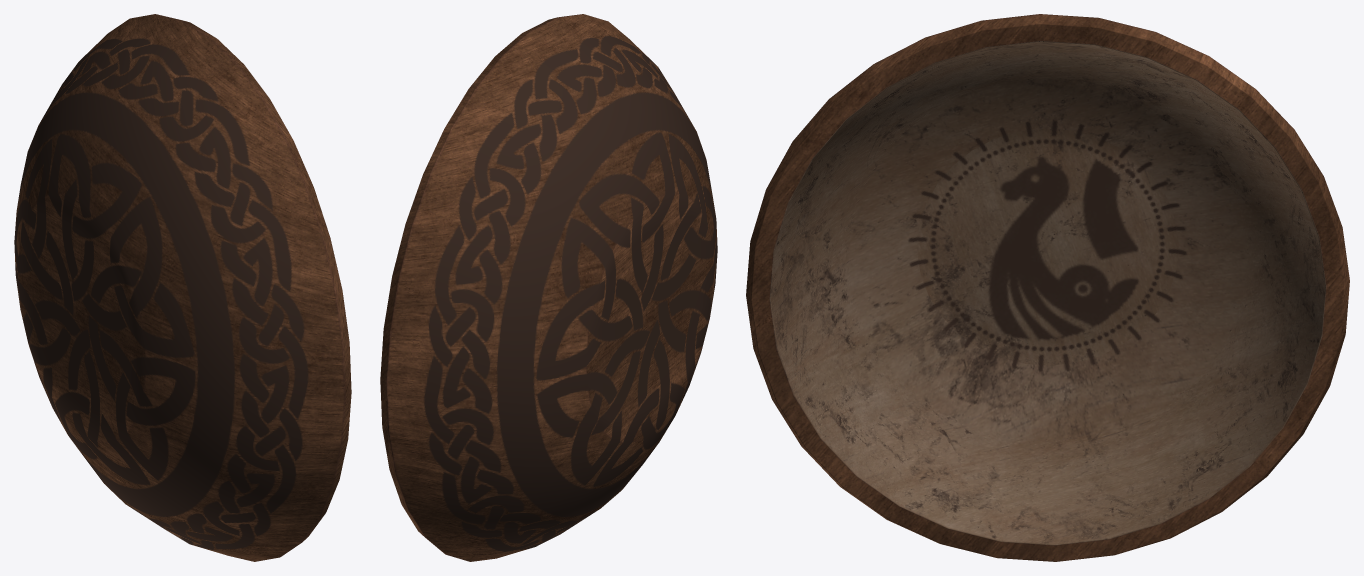
File: BowlMain.glb
3 renders of one model, left to right at view 1: azimuth 30°, elevation 25°; view 2: azimuth 150°, elevation 25°; view 3: azimuth 270°, elevation 25°, orthographic. The views are drawn at different scales.
Visible parts, largest first — view 1: VikingsObjectsBowl; view 2: VikingsObjectsBowl; view 3: VikingsObjectsBowl.
Boxes of the visible parts, bbox=[...] form: VikingsObjectsBowl: bbox=[14, 14, 351, 561]; VikingsObjectsBowl: bbox=[380, 14, 717, 561]; VikingsObjectsBowl: bbox=[746, 14, 1349, 561].
Bounding box in the file's own units: 0.2431 × 0.8817 × 0.8817.
3 materials, 3 textured.
